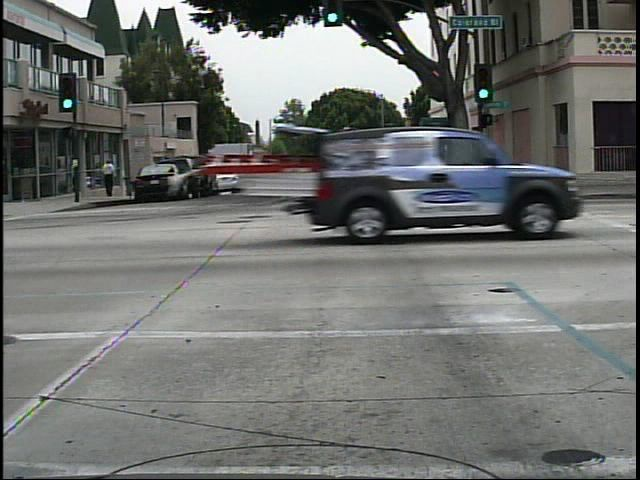person: (454, 141, 482, 196), (96, 153, 123, 202)
